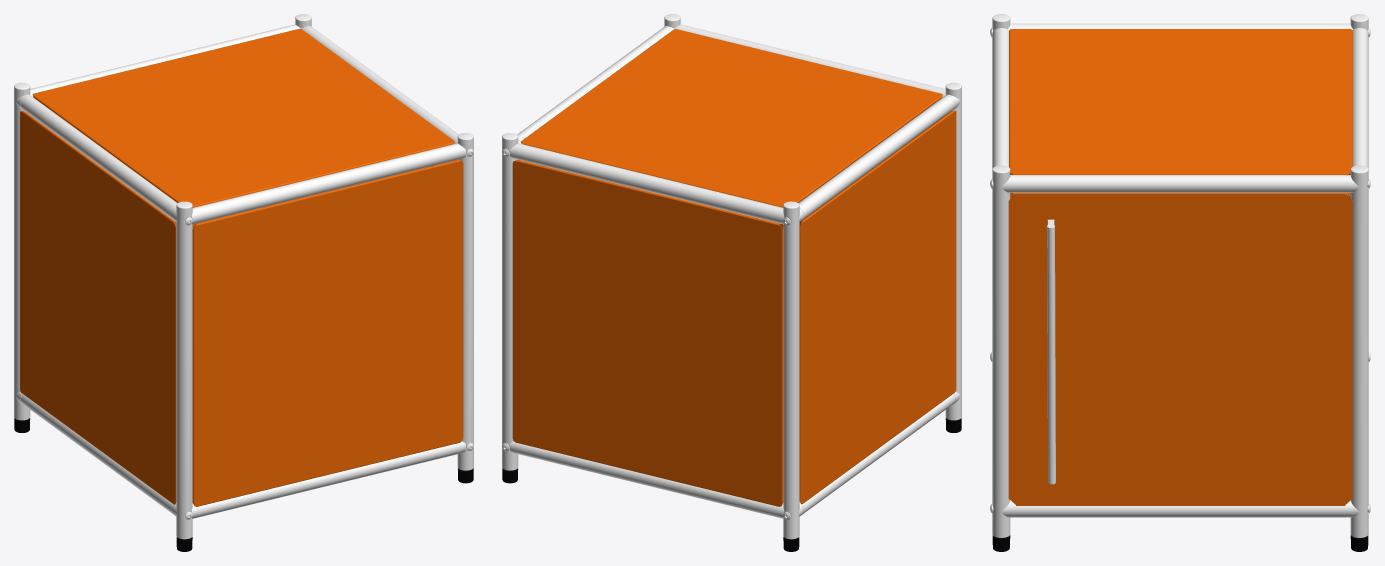
Rendered from 40x40x40-2-4-Orange_optimized_optimized.glb.
3 renders of one model, left to right at view 1: azimuth 30°, elevation 25°; view 2: azimuth 150°, elevation 25°; view 3: azimuth 270°, elevation 25°, orthographic. The views are drawn at different scales.
Parts seen in each view (by area): view 1: 直角鐵板-40x40-5 - 零件, 反-鐵管-40-354..4-1 - 零件, 圓形腳+調整器-1 - 零件; view 2: 直角鐵板-40x40-5 - 零件, 反-鐵管-40-354..4-1 - 零件, 圓形腳+調整器-1 - 零件; view 3: 直角鐵板-40x40-5 - 零件, 反-鐵管-40-354..4-1 - 零件, 圓形腳+調整器-1 - 零件.
Boxes of the visible parts, x1,y1,x2,y2 form: 直角鐵板-40x40-5 - 零件: (20,28,463,506); 反-鐵管-40-354..4-1 - 零件: (14,14,473,539); 圓形腳+調整器-1 - 零件: (14,418,473,551); 直角鐵板-40x40-5 - 零件: (512,29,956,506); 反-鐵管-40-354..4-1 - 零件: (502,14,961,539); 圓形腳+調整器-1 - 零件: (502,418,961,551); 直角鐵板-40x40-5 - 零件: (1008,29,1352,505); 反-鐵管-40-354..4-1 - 零件: (990,14,1370,537); 圓形腳+調整器-1 - 零件: (992,535,1368,551).
Bounding box in the file's own units: 0.4203 × 0.4453 × 0.4035.
